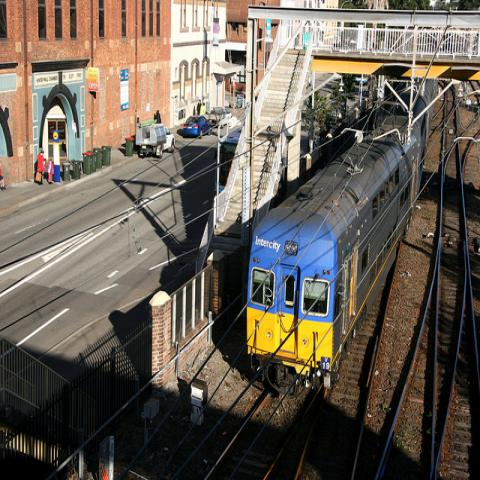car: (184, 115, 212, 138), (202, 105, 226, 124)
truck: (135, 121, 176, 160)
